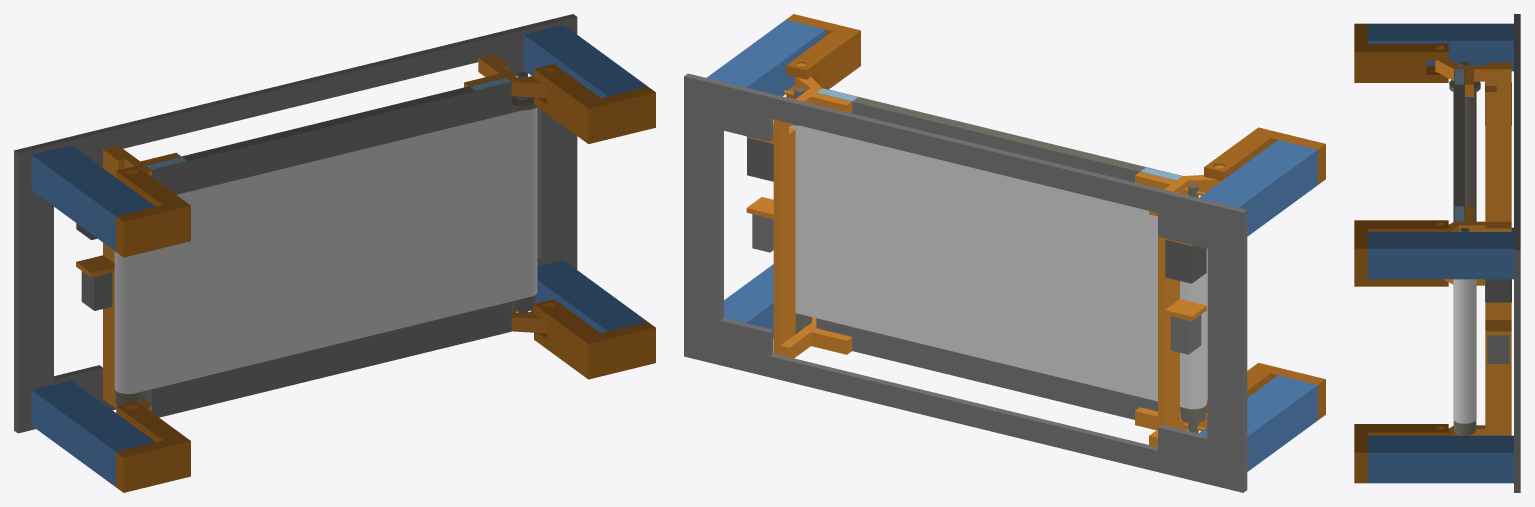
Rendered from treadmill_export.obj.
3 views of the same model, side by side, from view 1: azimuth 30°, elevation 25°; view 2: azimuth 150°, elevation 25°; view 3: azimuth 270°, elevation 25° (orthographic). The views are drawn at different scales.
Visible parts, largest first — view 1: mesh175, mesh299, mesh266, mesh4, mesh364, mesh315, mesh382, mesh427, mesh418, mesh383, mesh316, mesh176 (+21 smaller); view 2: mesh177, mesh79, mesh225, mesh267, mesh5, mesh365, mesh104, mesh275, mesh358, mesh391, mesh158, mesh427 (+20 smaller); view 3: mesh421, mesh426, mesh55, mesh174, mesh157, mesh315, mesh418, mesh427, mesh227, mesh314, mesh44, mesh285 (+27 smaller).
Boxes of the visible parts, <box> form: mesh175: <box>135,109,530,393</box>; mesh299: <box>152,82,511,417</box>; mesh266: <box>103,38,491,149</box>; mesh4: <box>18,193,53,388</box>; mesh364: <box>541,110,577,260</box>; mesh315: <box>32,145,155,216</box>; mesh382: <box>32,380,154,451</box>; mesh427: <box>524,25,647,96</box>; mesh418: <box>537,260,647,331</box>; mesh383: <box>31,390,115,486</box>; mesh316: <box>31,155,115,251</box>; mesh176: <box>114,251,134,393</box>; mesh177: <box>791,125,1186,408</box>; mesh79: <box>816,101,1157,419</box>; mesh225: <box>769,356,1157,471</box>; mesh267: <box>769,97,1157,212</box>; mesh5: <box>1207,249,1243,447</box>; mesh365: <box>684,121,719,320</box>; mesh104: <box>684,76,769,141</box>; mesh275: <box>1158,427,1243,492</box>; mesh358: <box>684,312,769,377</box>; mesh391: <box>1158,192,1243,257</box>; mesh158: <box>780,124,795,345</box>; mesh427: <box>706,20,825,87</box>; mesh421: <box>1367,452,1513,483</box>; mesh426: <box>1367,248,1513,279</box>; mesh55: <box>1485,81,1511,221</box>; mesh174: <box>1453,279,1476,423</box>; mesh157: <box>1485,228,1511,435</box>; mesh315: <box>1367,23,1513,40</box>; mesh418: <box>1367,435,1513,452</box>; mesh427: <box>1367,232,1513,248</box>; mesh227: <box>1367,52,1448,82</box>; mesh314: <box>1367,40,1513,71</box>; mesh44: <box>1453,92,1476,221</box>; mesh285: <box>1454,84,1464,206</box>.
Size of the model in its own units: 2.49 by 1.19 by 0.74.
